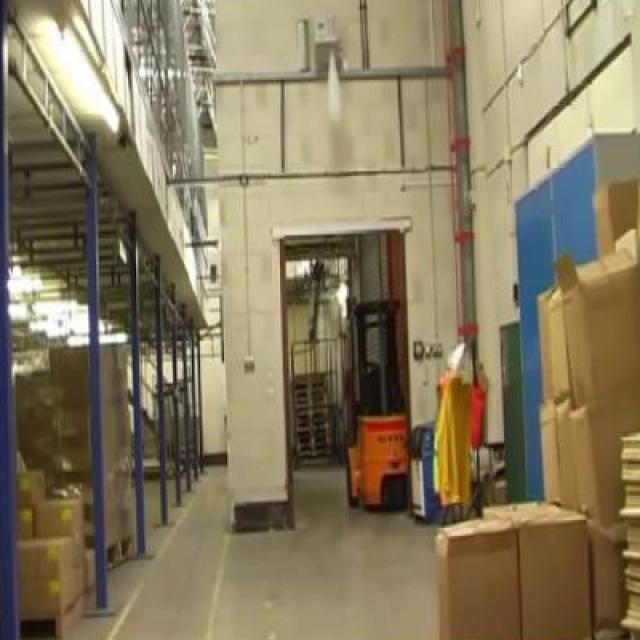fire: (316, 68, 353, 138)
